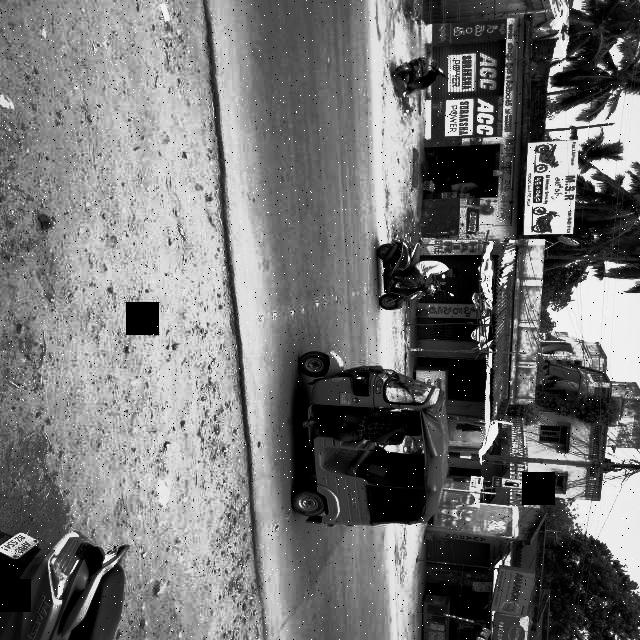Auto-Rickshaw: (294, 344, 448, 544)
Bike: (372, 230, 455, 318)
